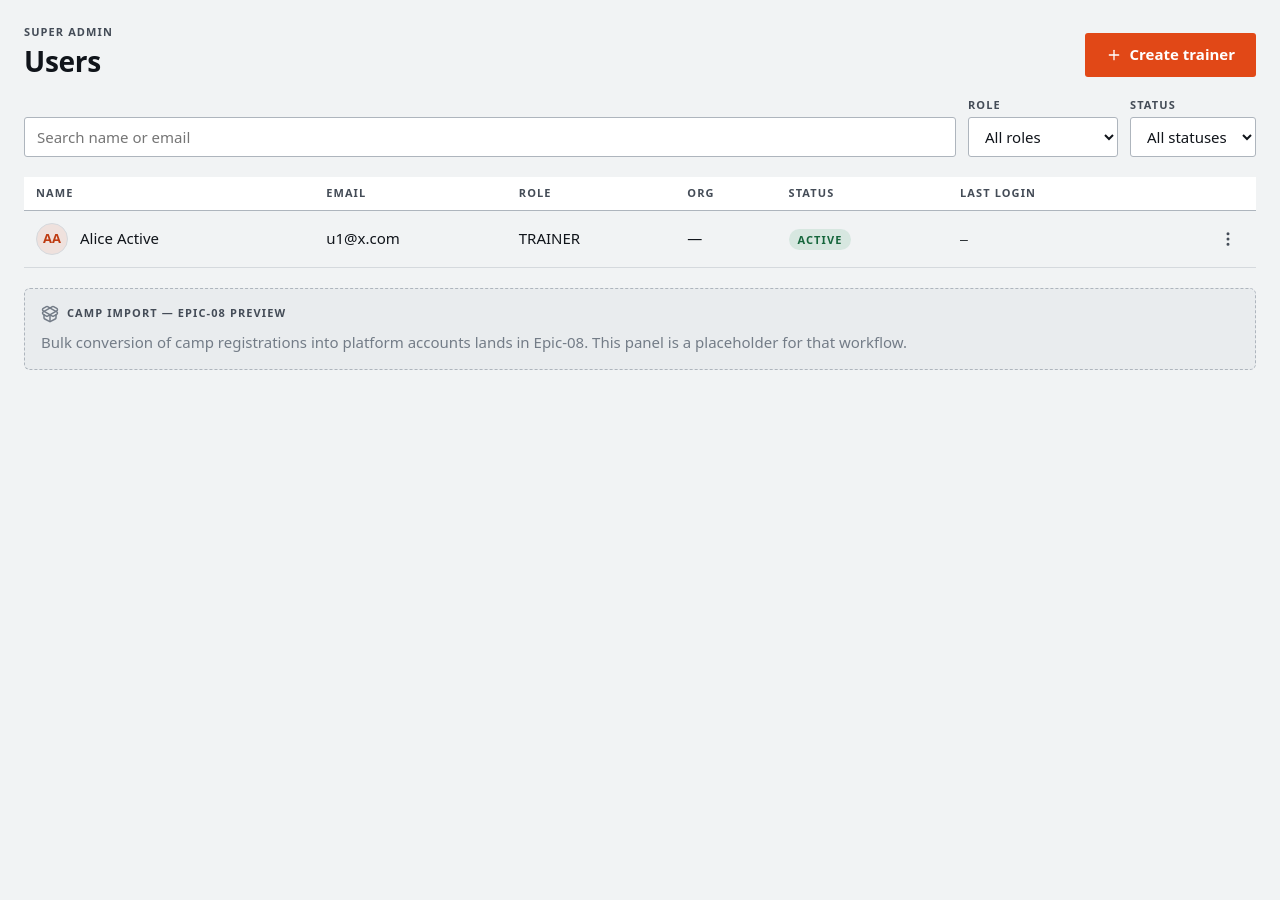
Scenario: UsersDirectory › deactivates a user with the force-logout copy (H2) and flips the row
The image size is (1280, 900).
Check: the text "Alice Active" is shown, box 80,227 -> 159,250
Click the button named "actions for alice active".
click(1228, 239)  # box 1212,223 -> 1244,255
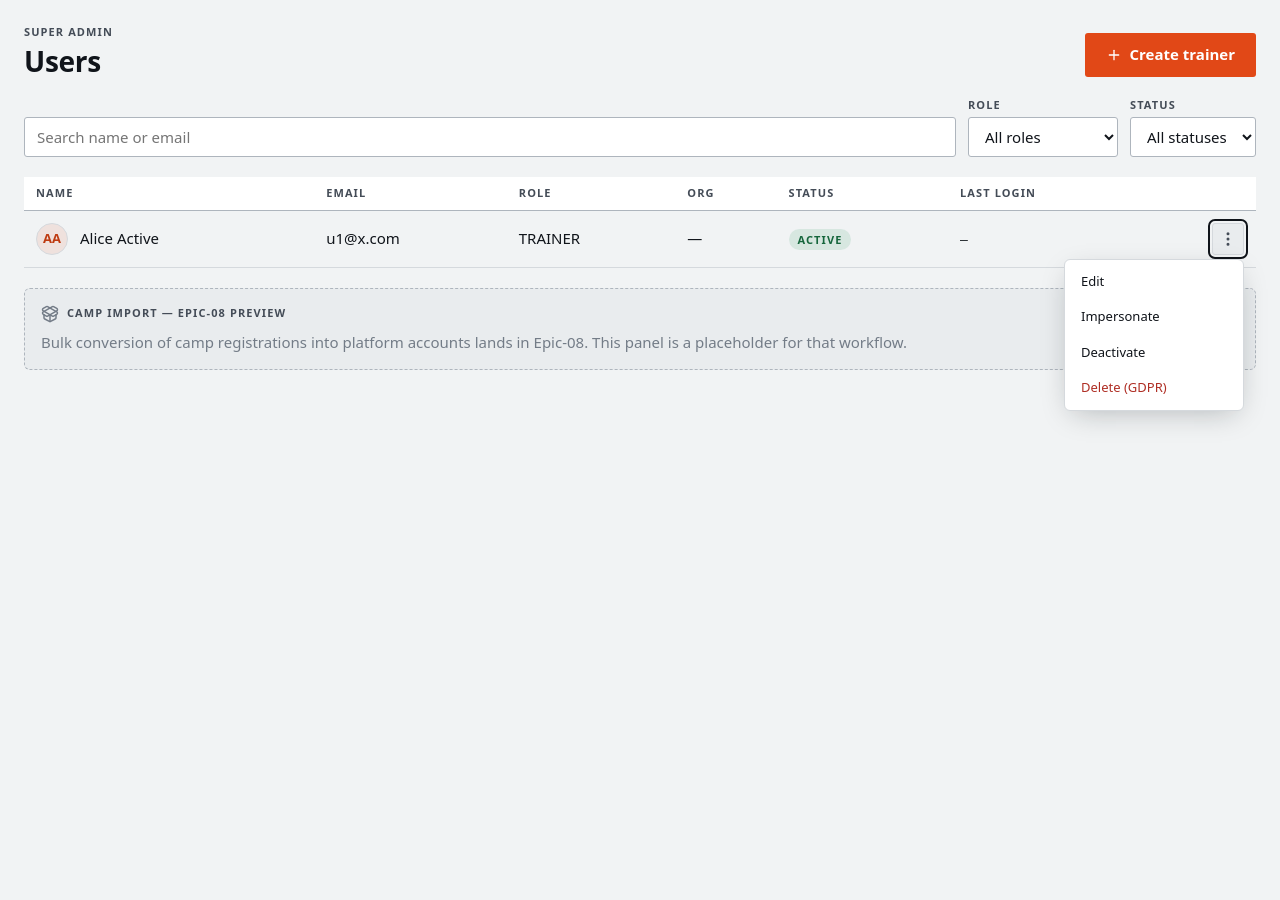
Click the menu item "Deactivate".
click(1154, 352)  # box 1069,335 -> 1239,370
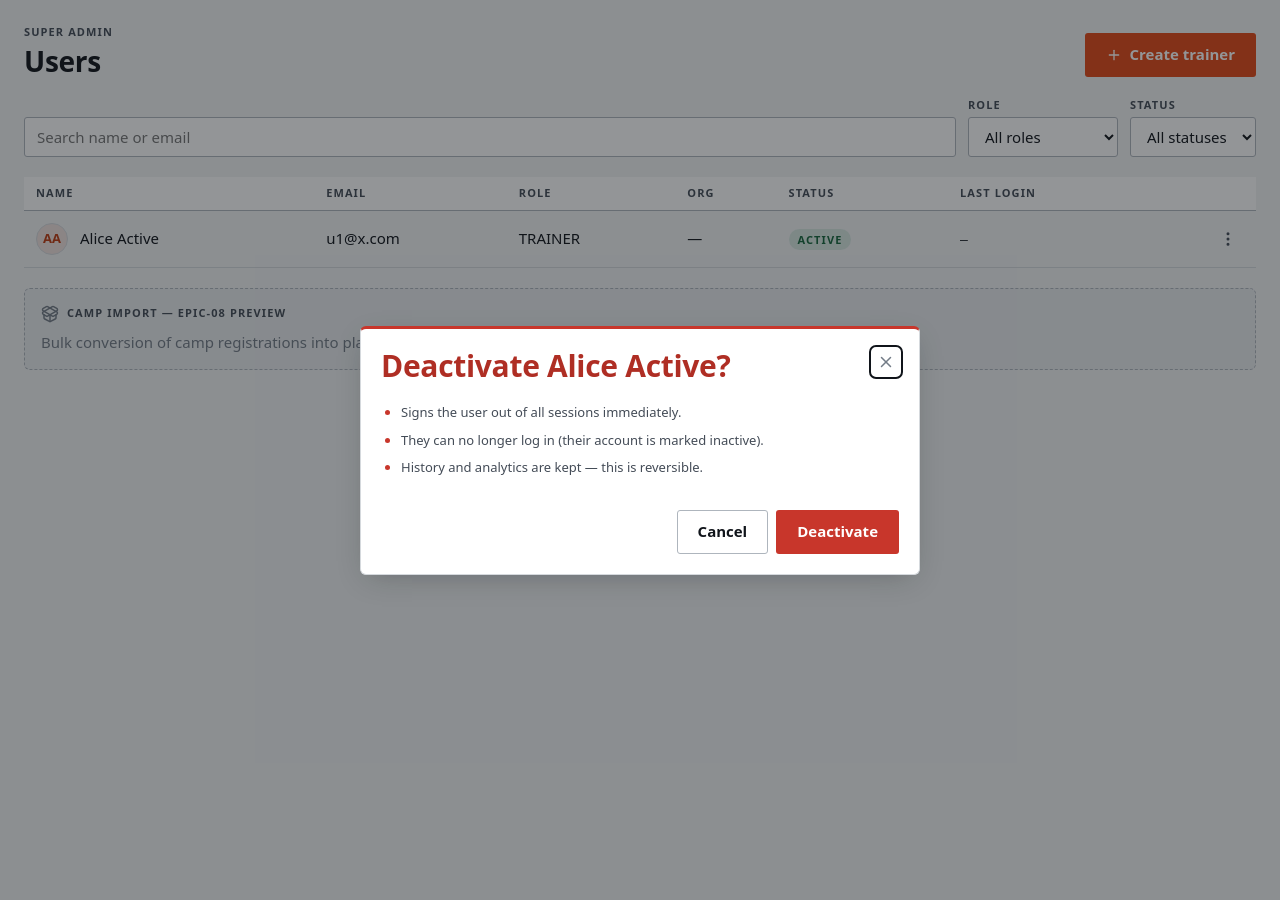
Check: the list item "Signs the user out of all sessions immediately." is shown, box 401,403 -> 682,421
Click the button "Deactivate".
click(838, 532)  # box 776,510 -> 899,554
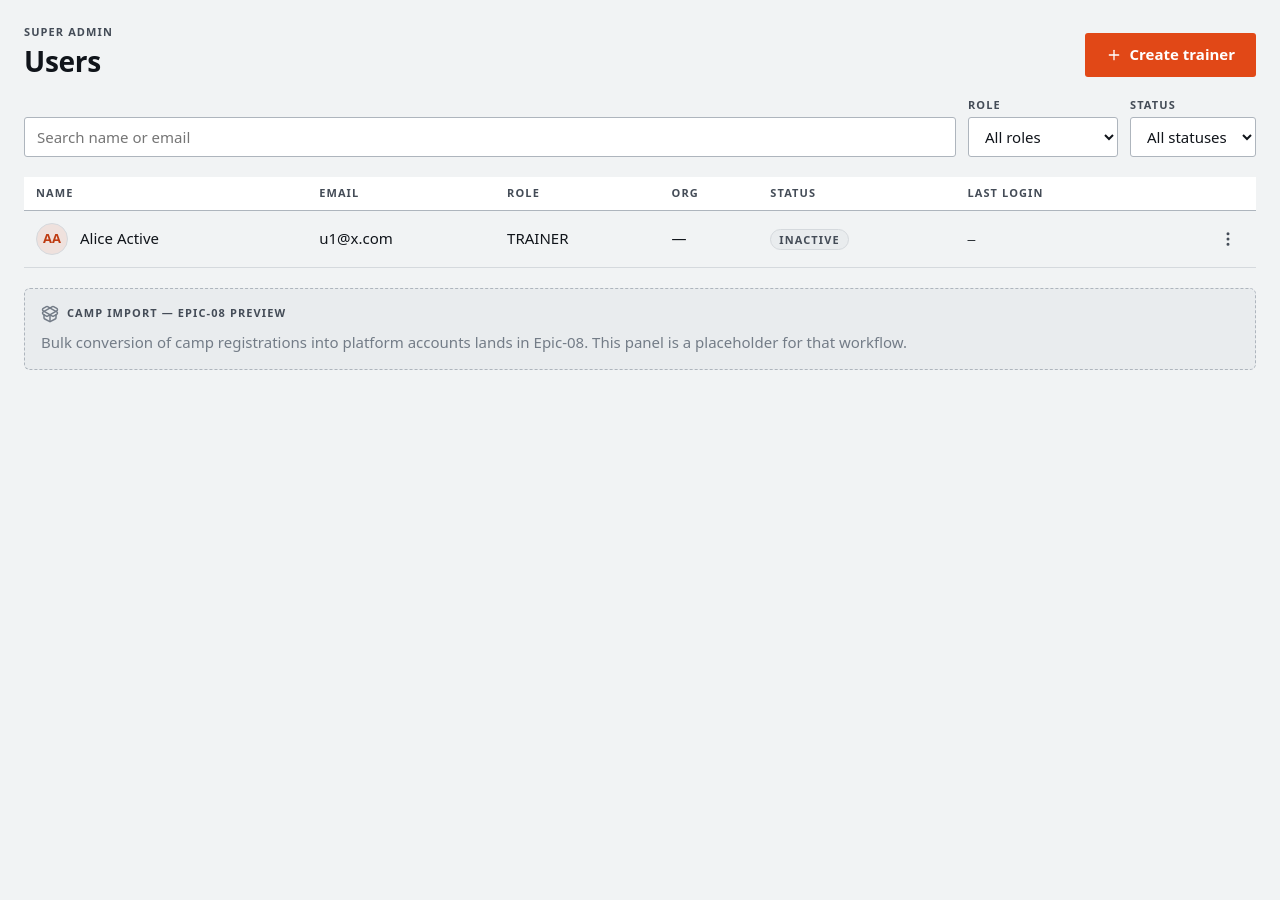
Check: the text "INACTIVE" is shown, box 770,229 -> 849,250
